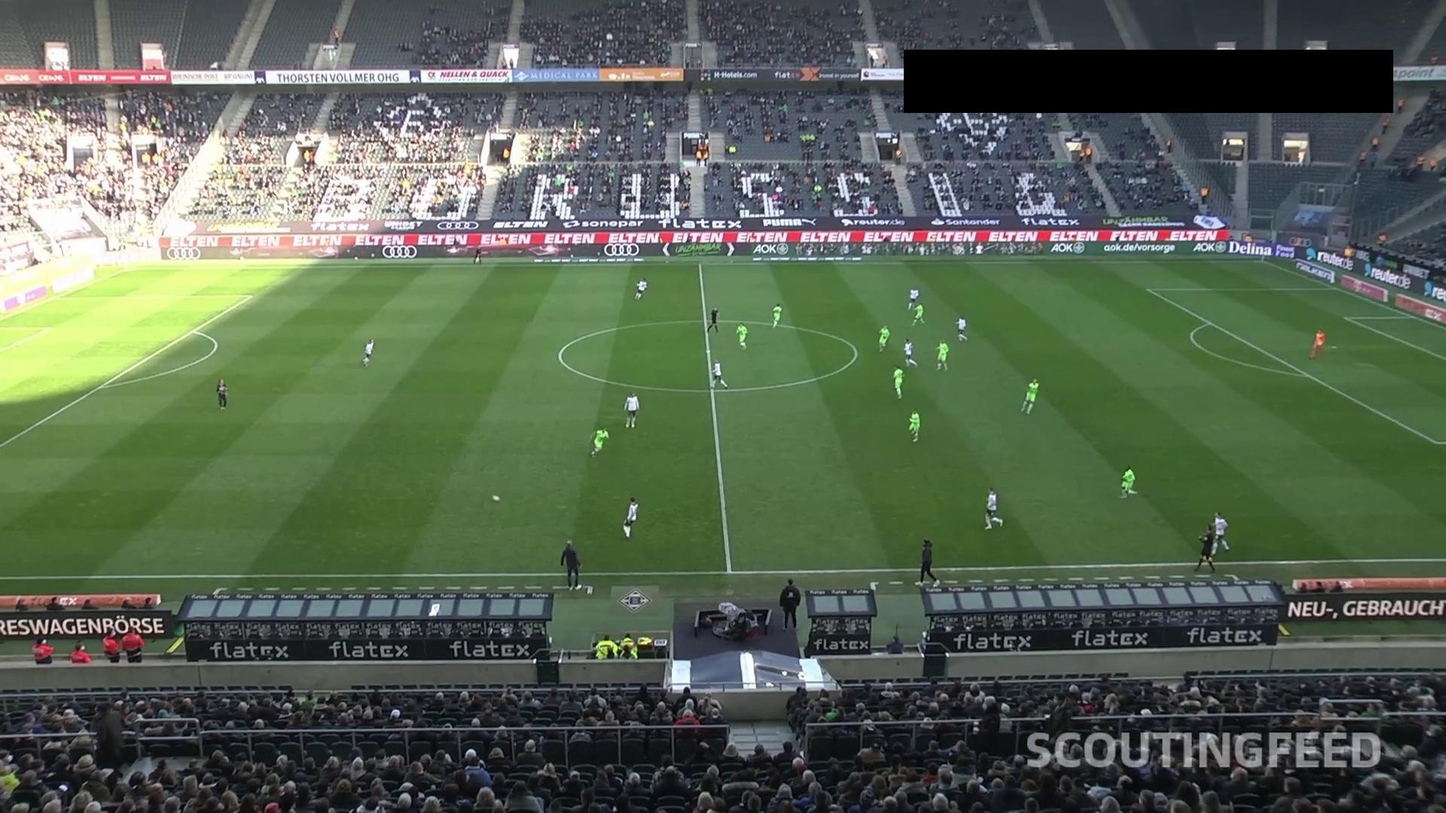ball: (492, 494, 502, 503)
player: (1210, 511, 1233, 558), (984, 486, 1006, 532), (624, 497, 642, 541), (1120, 466, 1141, 499), (590, 427, 610, 460), (623, 392, 641, 428), (709, 359, 730, 389), (1023, 378, 1041, 413), (907, 408, 923, 445), (902, 338, 921, 369), (934, 339, 950, 372), (1311, 329, 1326, 360), (892, 364, 905, 399), (734, 321, 749, 351), (216, 379, 229, 412), (955, 315, 969, 343), (877, 325, 890, 354), (362, 338, 375, 367), (912, 303, 927, 328), (634, 277, 648, 301), (772, 303, 784, 329), (907, 283, 918, 311)
refree: (1197, 523, 1216, 573), (707, 306, 721, 334), (474, 244, 483, 265)
